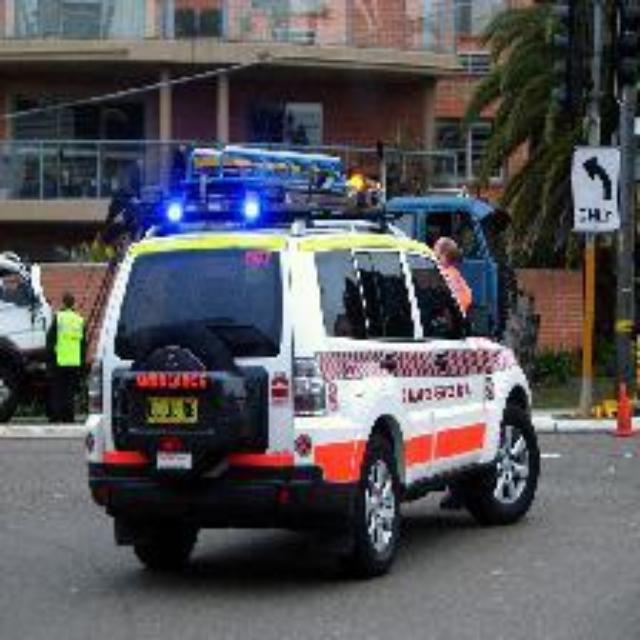emergency: (81, 172, 552, 574)
